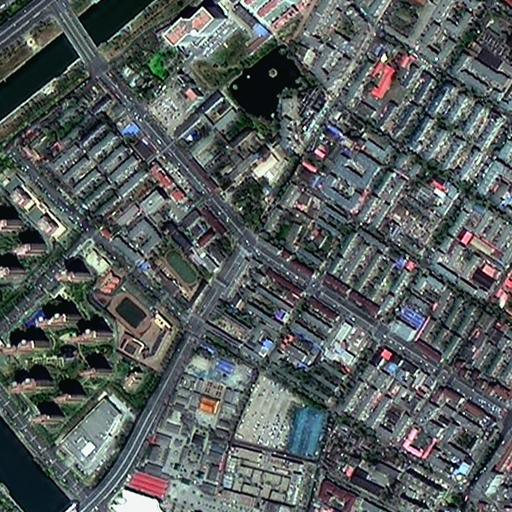school: (155, 202, 223, 312), (107, 291, 179, 370)
